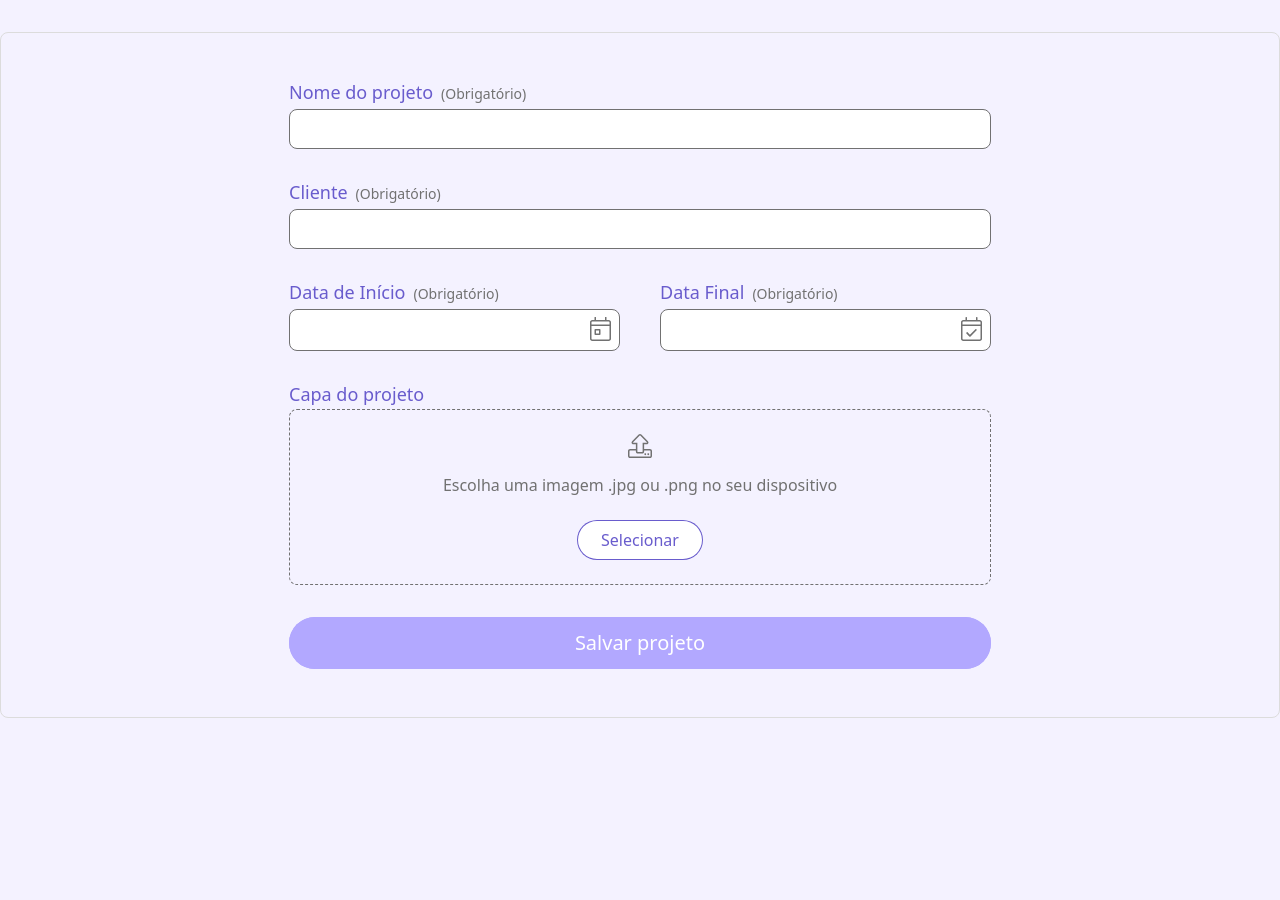
Test case: ProjectForm - validation › enables the submit button once every field is valid
Type "Loja Virtual" into the field named "name" at (640, 129), box [289,109,991,149]
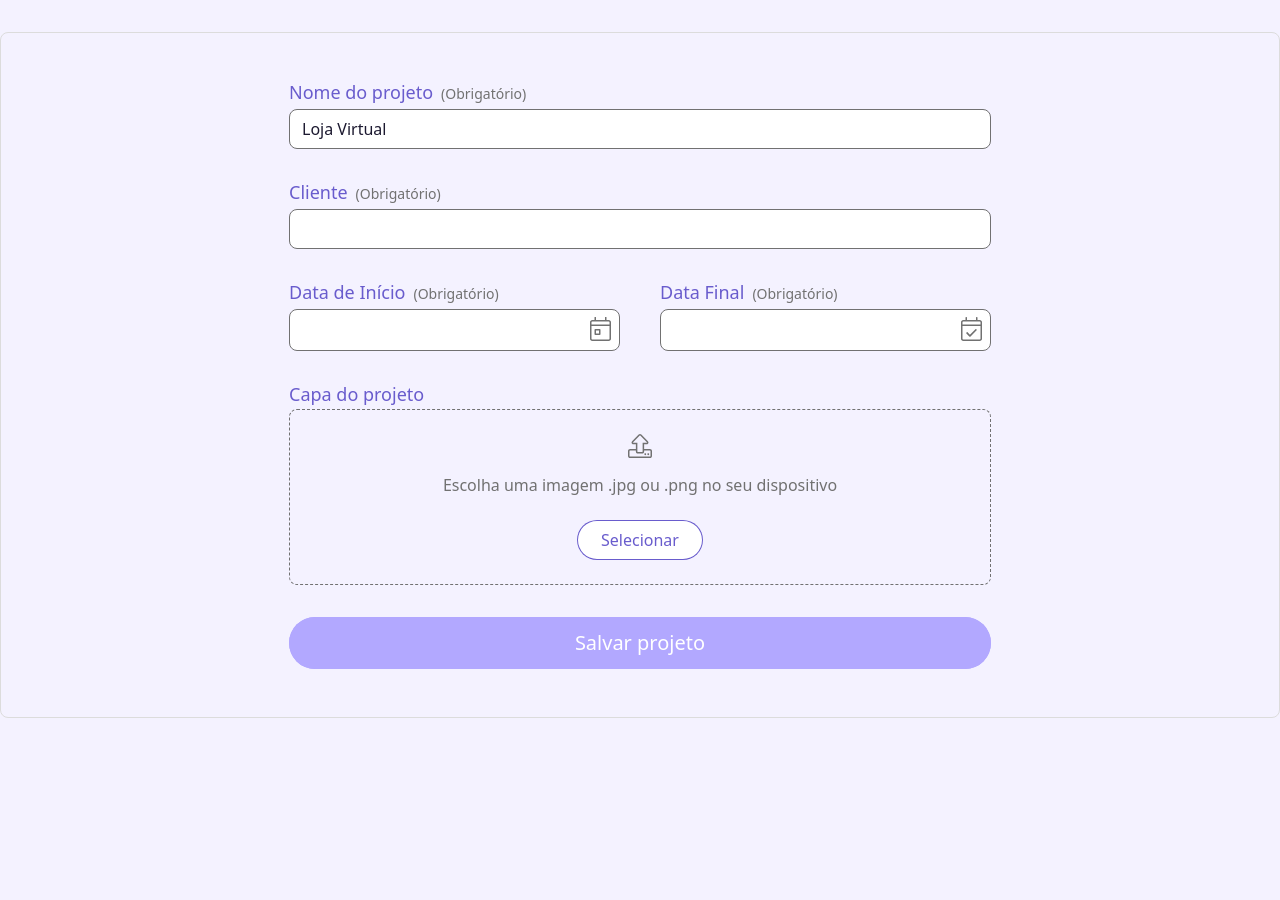
Type "Clicksign" into the field named "client" at (640, 229), box [289,209,991,249]
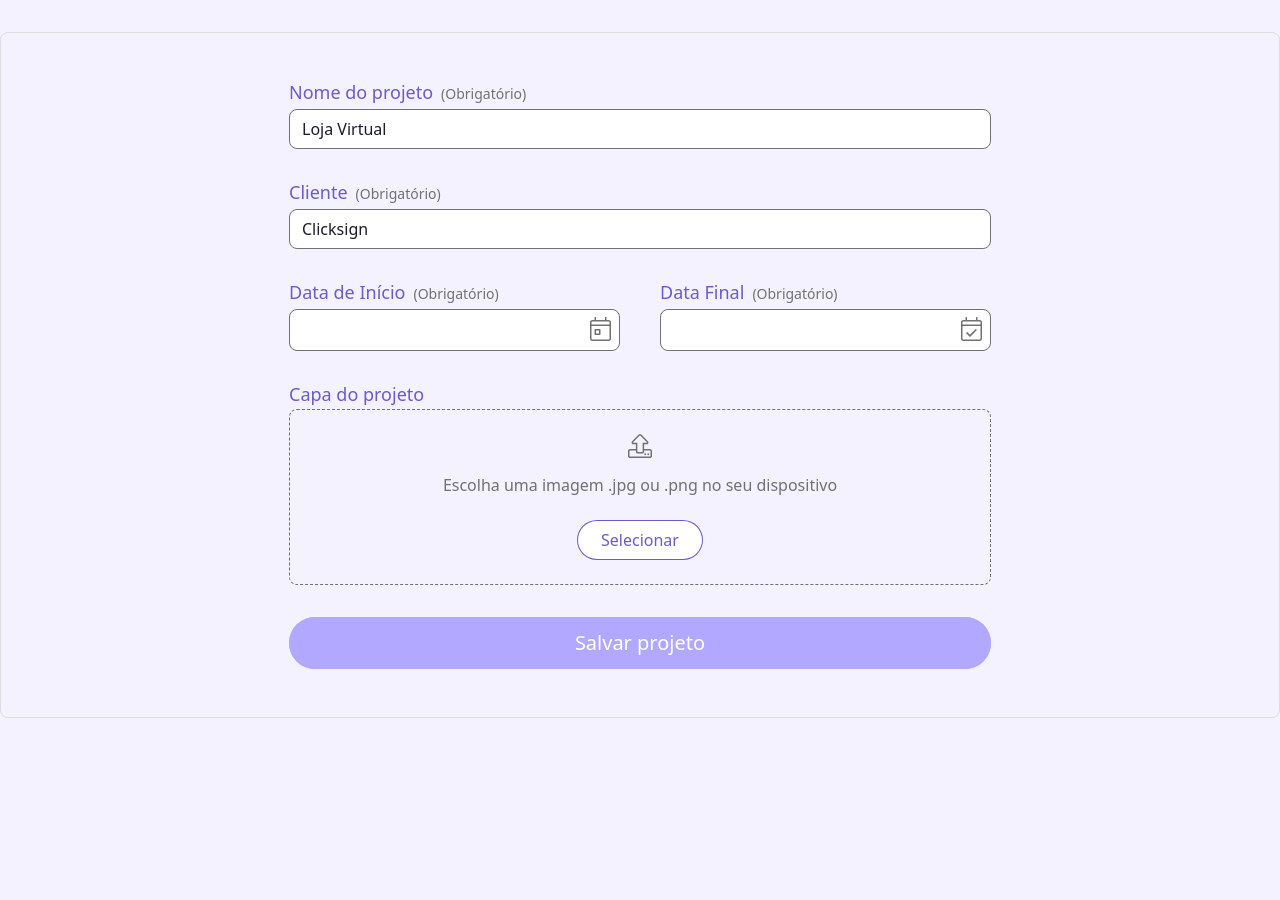
Type "2026-09-01" into the date field named "started_at" at (454, 330), box [289,309,620,351]
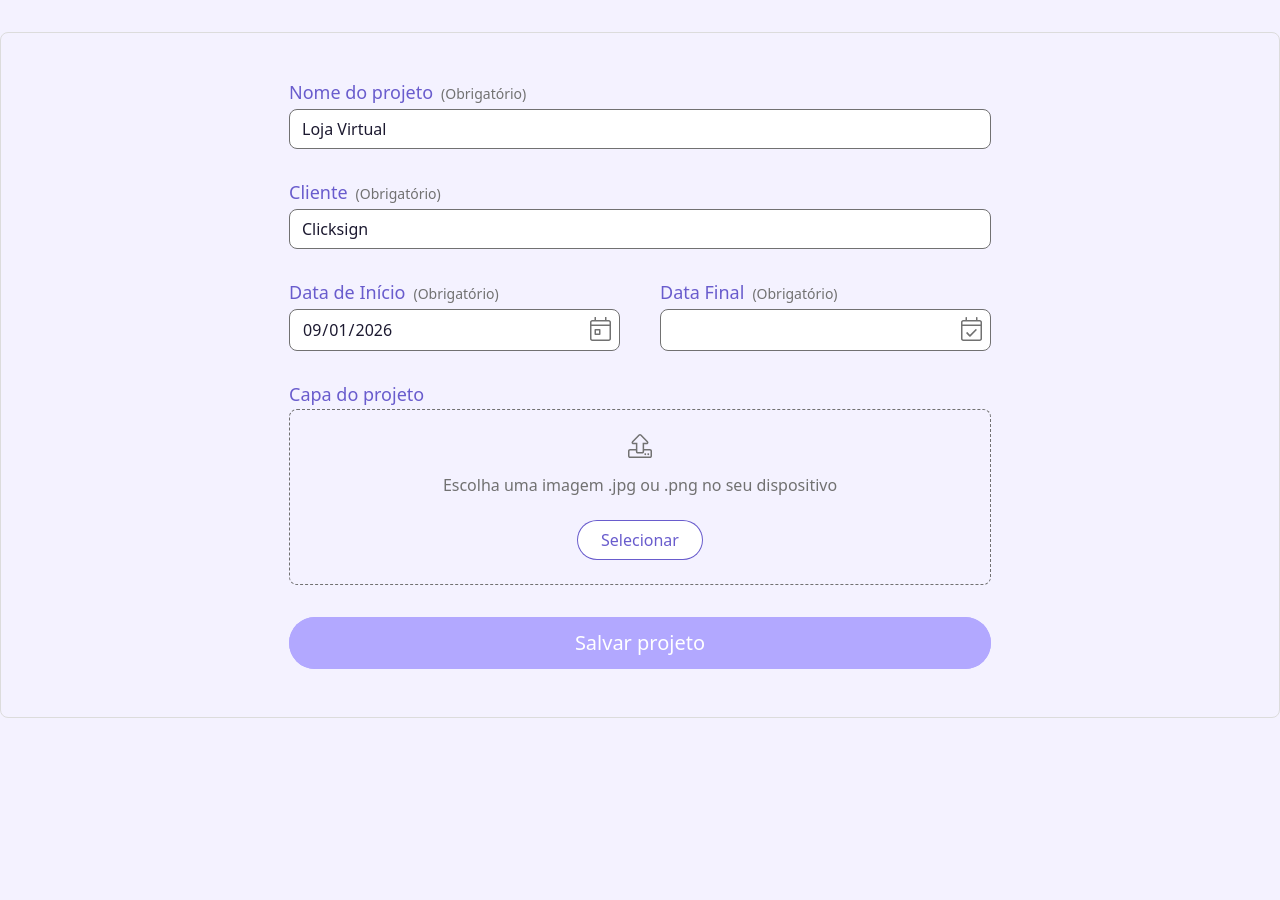
Type "2026-12-15" into the date field named "end_at" at (826, 330), box [660,309,991,351]
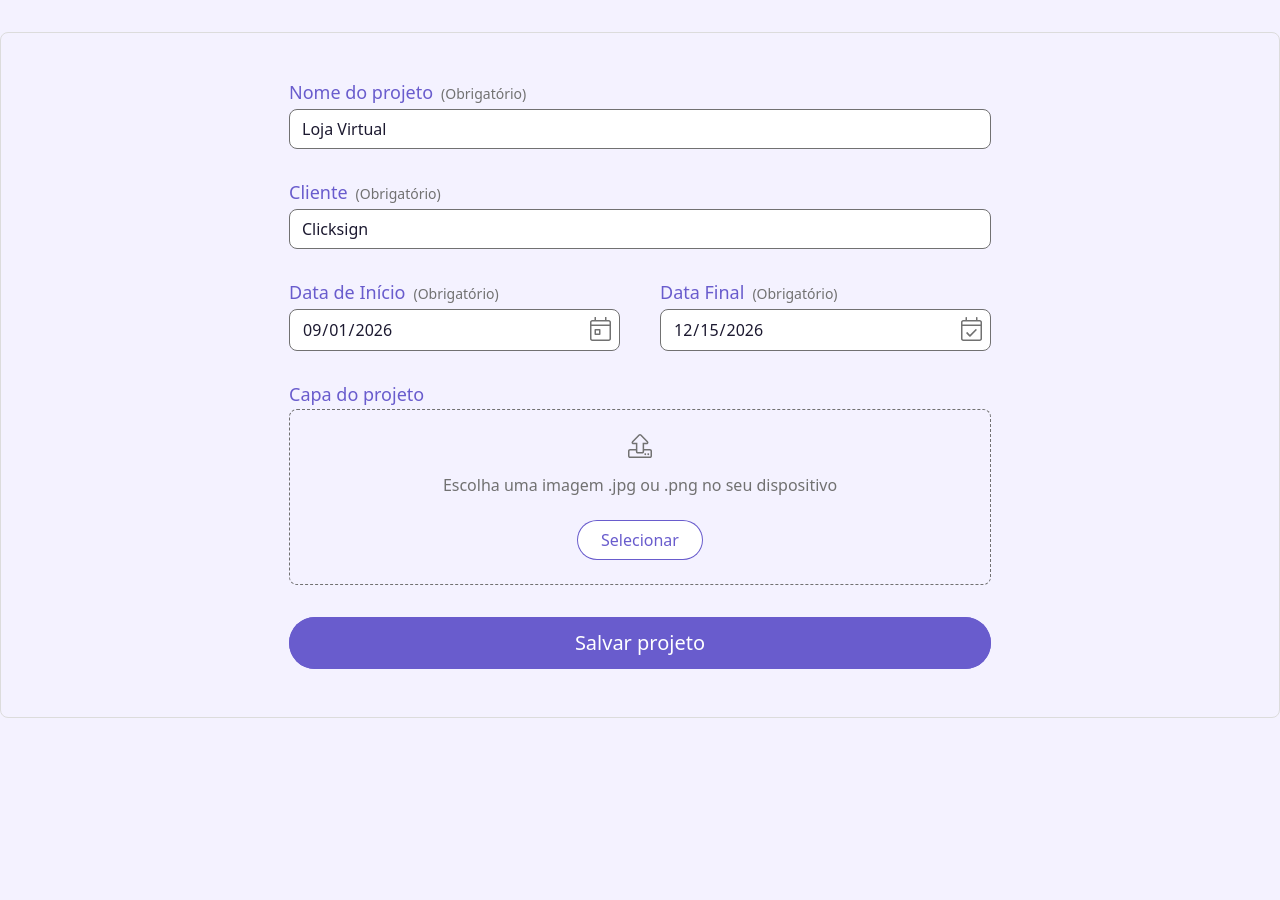
Check: the button "Salvar projeto" is enabled, box [289,617,991,669]
